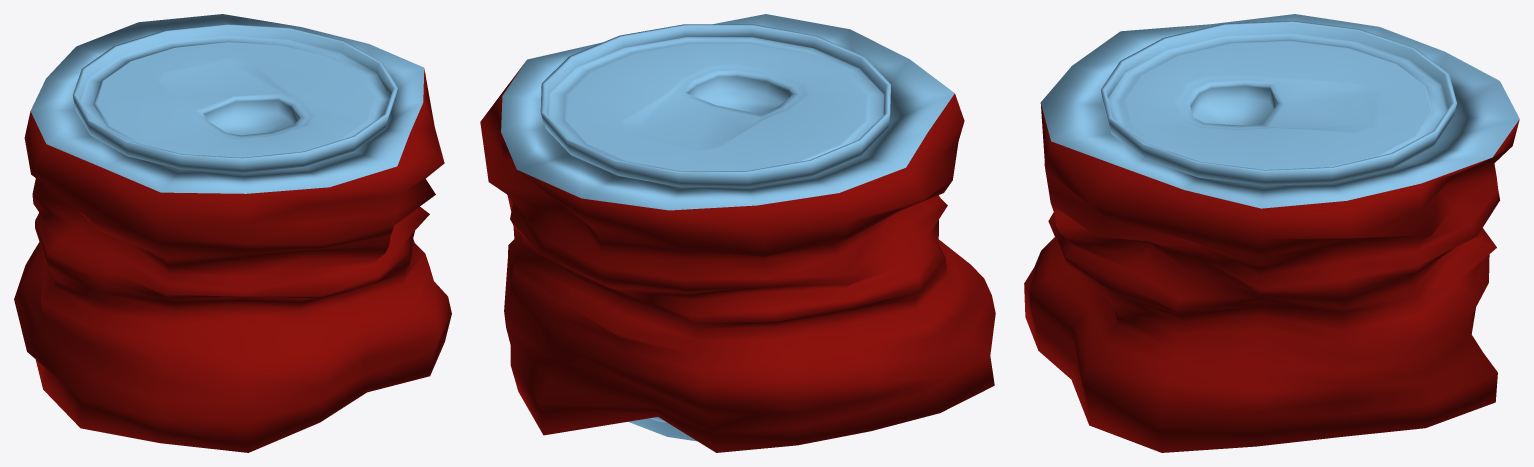
Rendered from Mesh_sodaCan1_Crushed.fbx.
3 renders of one model, left to right at view 1: azimuth 30°, elevation 25°; view 2: azimuth 150°, elevation 25°; view 3: azimuth 270°, elevation 25°, orthographic. The views are drawn at different scales.
Parts seen in each view (by area): view 1: SodaCan.001; view 2: SodaCan.001; view 3: SodaCan.001.
Boxes of the visible parts, box(x1,y1,x2,y2) form: SodaCan.001: box(14, 14, 451, 452); SodaCan.001: box(480, 14, 995, 452); SodaCan.001: box(1024, 14, 1519, 452).
Bounding box in the file's own units: 10.18 × 6.32 × 10.02.
